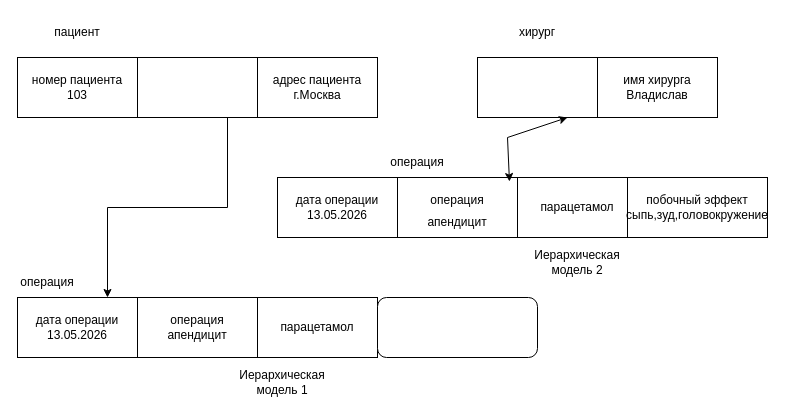
Image size: 786x414. Some labels were removed from this diagram. Each missing label, with the centre of its shape:
"головокружение,сыпь,зуд" belongs at pixel 457 327.
"имя пациента Виталий" belongs at pixel 197 87.
"номер пациента хирурга 103" belongs at pixel 537 87.
